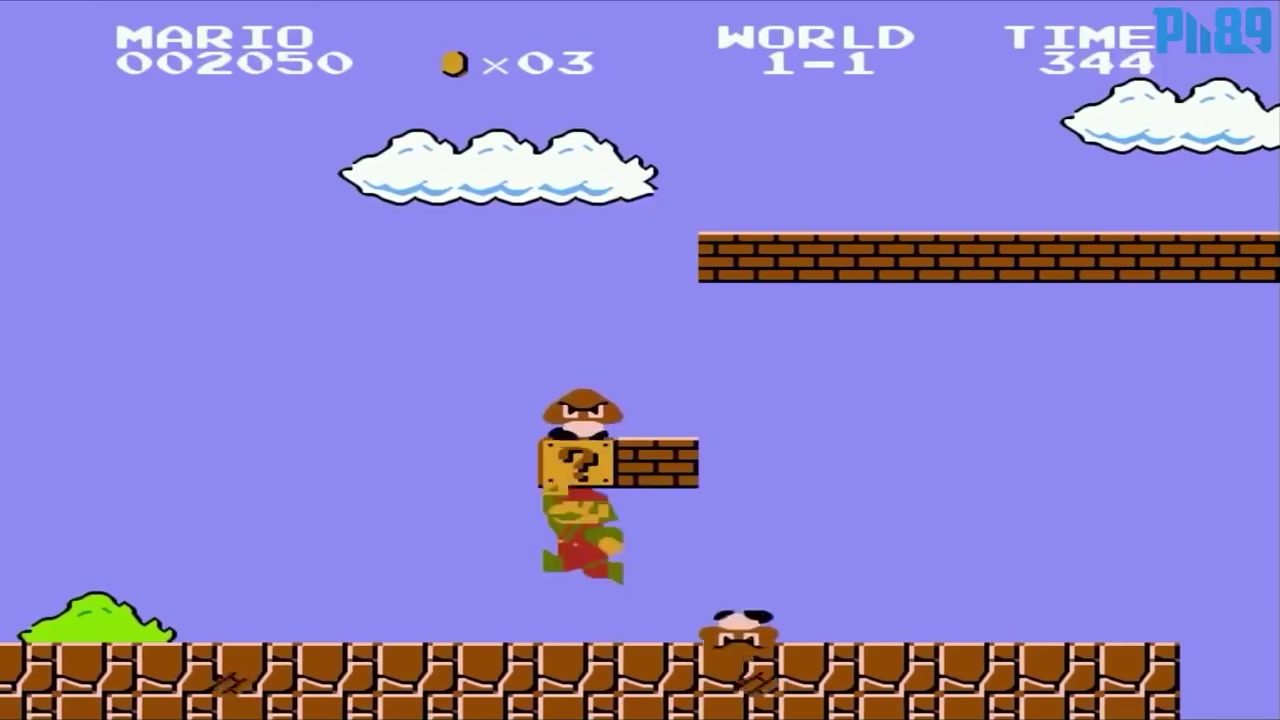mario: (531, 475, 630, 586)
